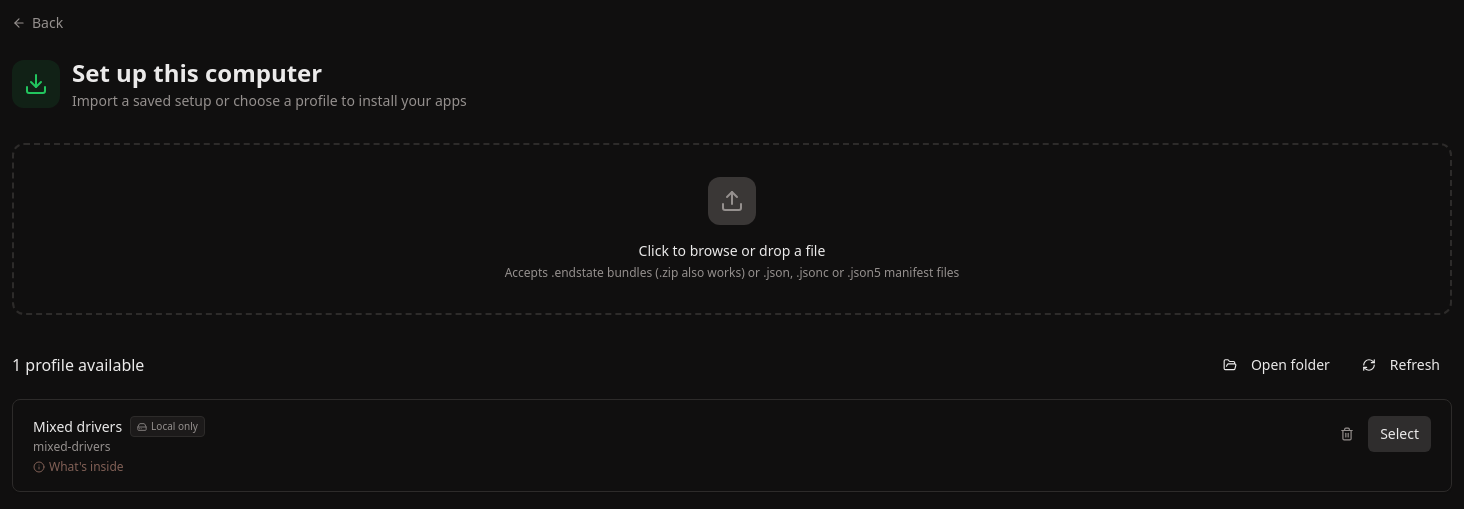
it: SetupFlow command warnings › clears preview warnings when live apply warnings are omitted
Click the button "Mixed drivers Local only mixed-drivers What's inside Select" at (78, 426), box [12, 399, 1452, 492]
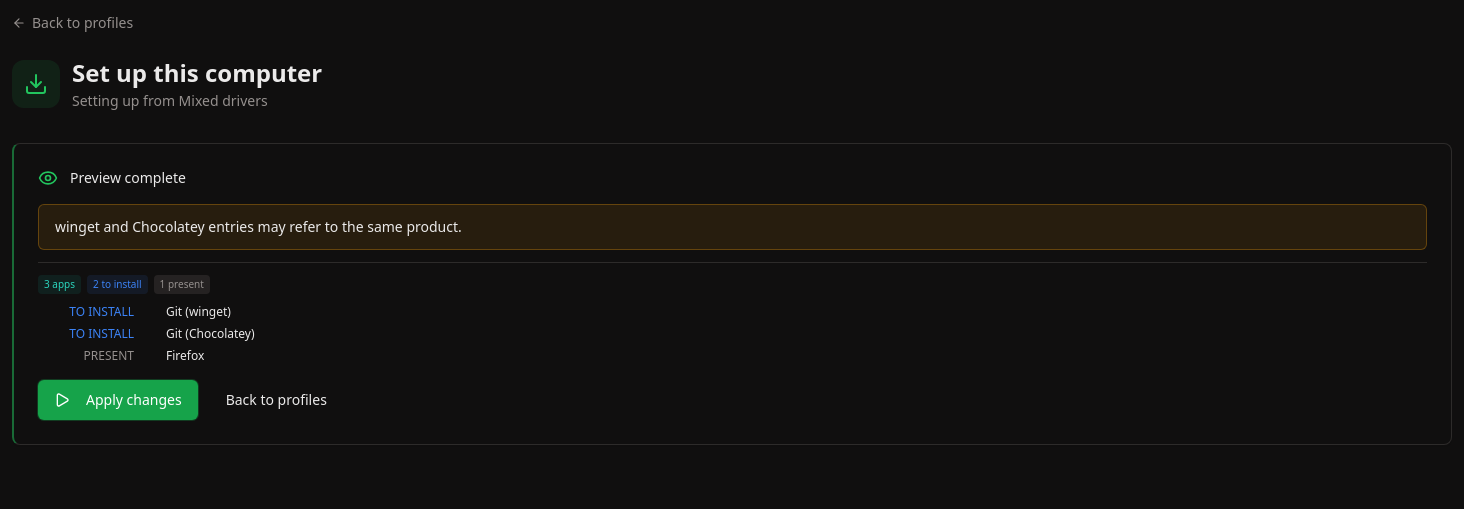
Now the button with test id "setup-flow-apply" is shown
Now the element named "warnings" is shown, box [38, 204, 1427, 250]
Click the button with test id "setup-flow-apply" at (118, 400), box [38, 380, 198, 420]
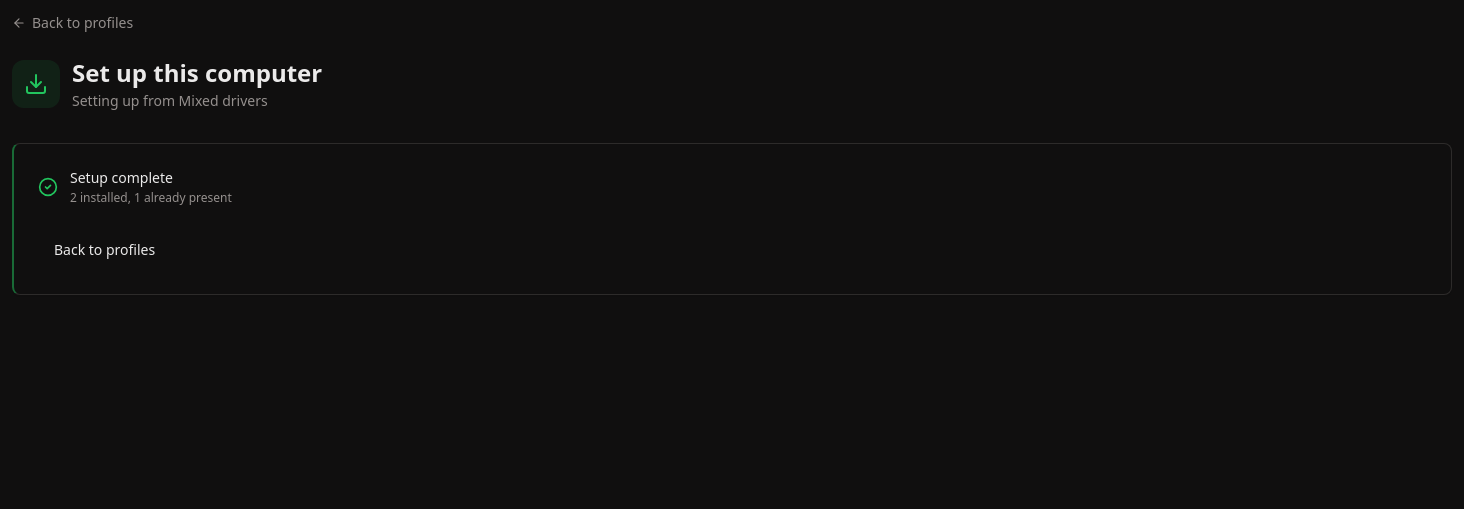
Now the text "Setup complete" is shown, box [70, 168, 173, 187]
Now the text "winget and Chocolatey entries may refer to the same product." is gone
